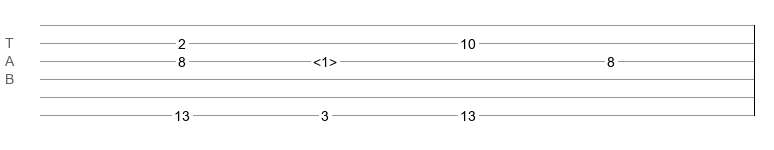10: (460, 36, 476, 46)
13: (174, 108, 190, 118), (460, 108, 476, 118)
2: (178, 36, 186, 46)
3: (321, 108, 329, 118)
8: (178, 54, 186, 64), (607, 54, 615, 64)
harmonic: (313, 54, 337, 64)
